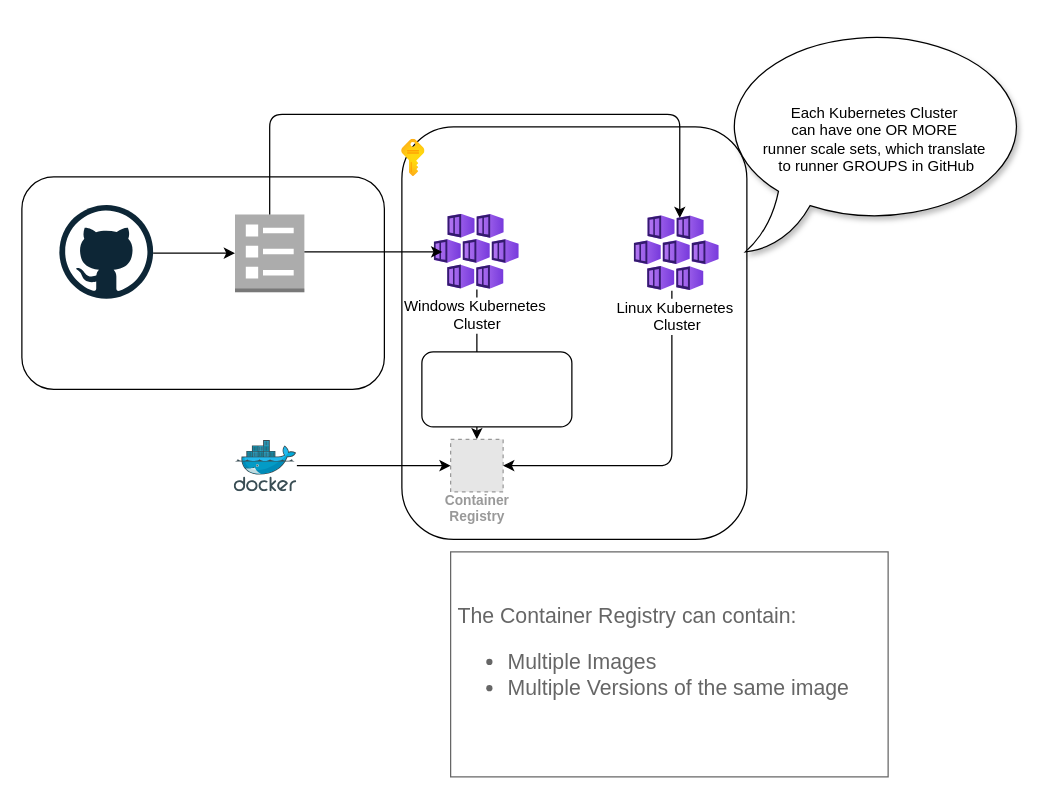
The diagram is 1064 pixels wide and 799 high, and some of its shapes have lost their labels. Grey dashed boxes stand in for pictures. Here are the shapes that lost their labels. From the top down, the centre of each, then its label:
(x=269, y=252): Workflow File with 'Runs-On' specifying Runner Group(s)
(x=265, y=465): Docker Builds for Windows, Linux, other Custom Images
